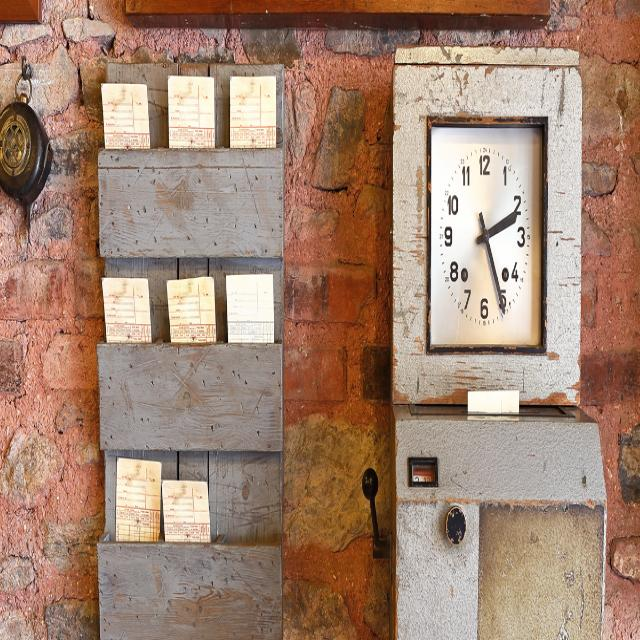clock: (353, 73, 610, 405)
